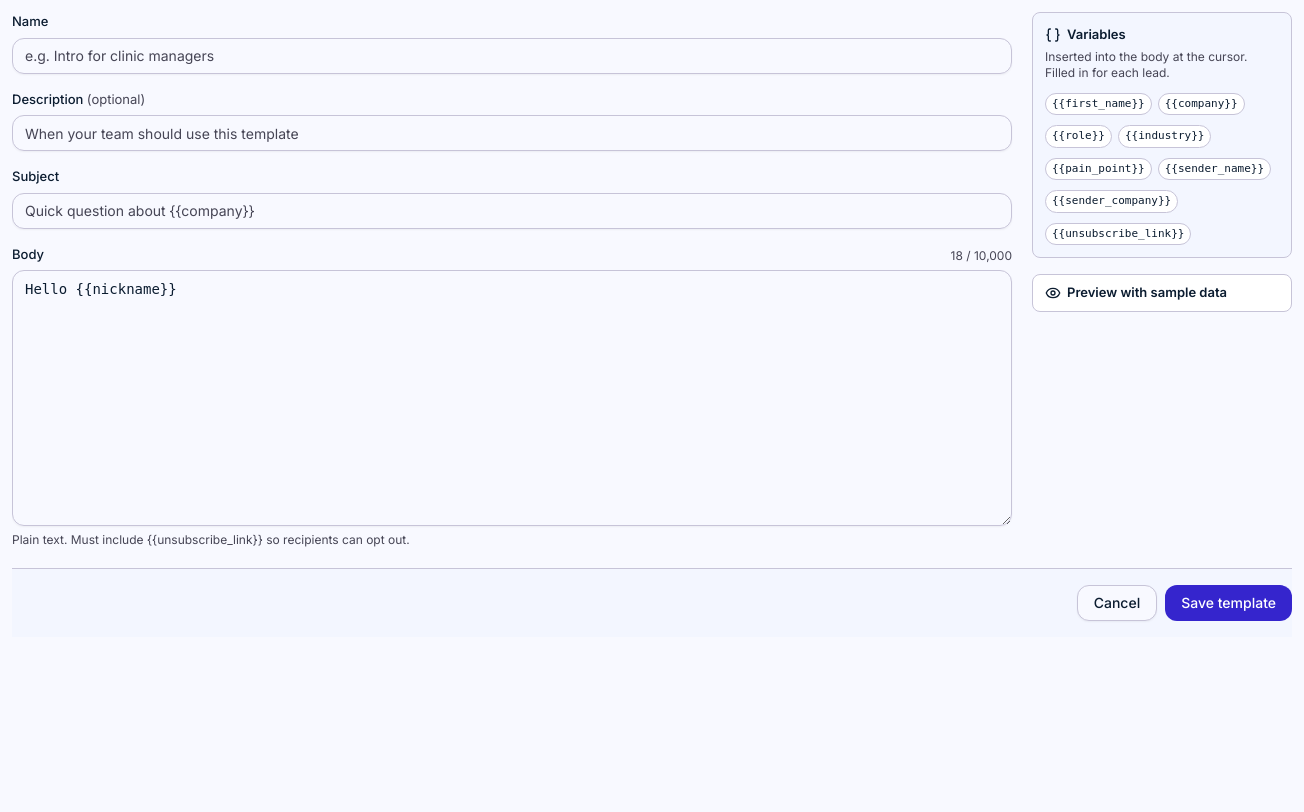
Test: TemplateForm › blocks submit and explains what's wrong
Click the button "Save template": [1229, 603] box [1165,585,1292,621]
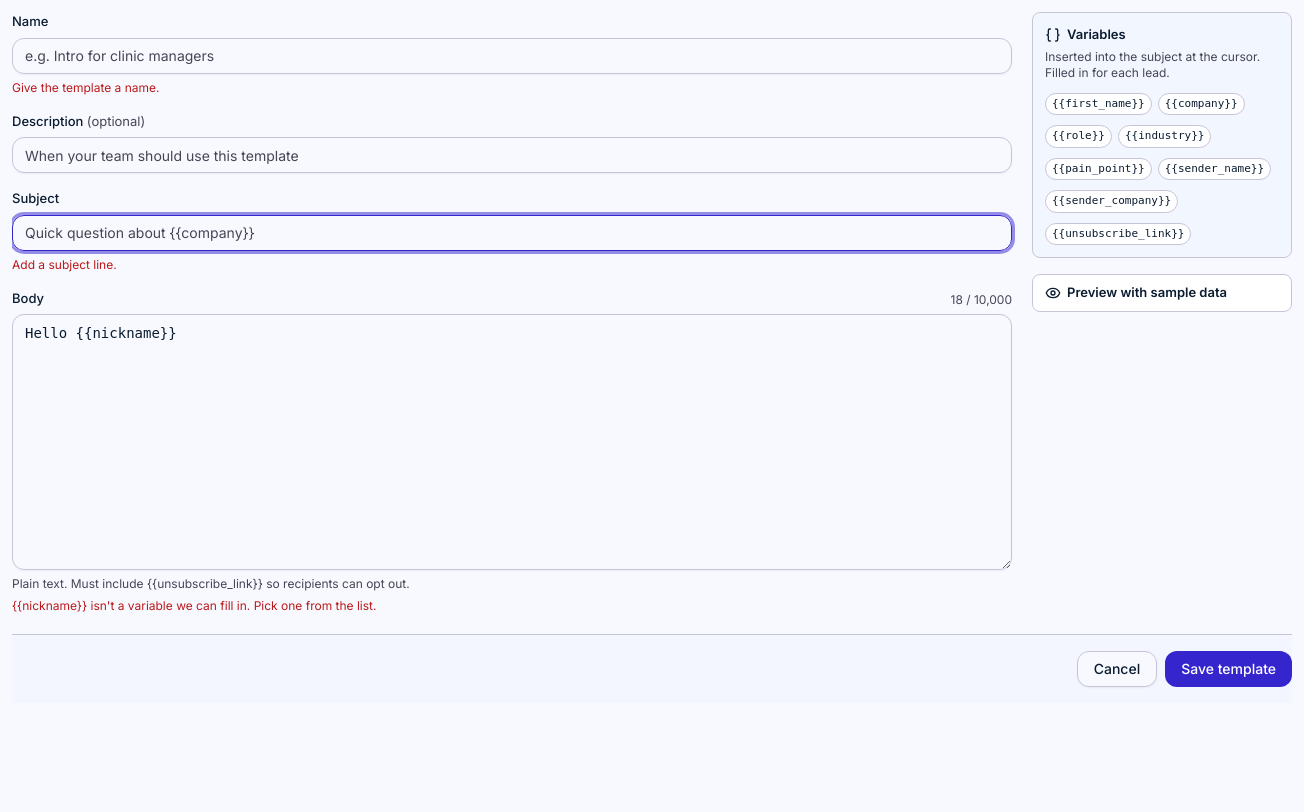
Check: the text "Give the template a name." is shown, box [12,80,160,94]
Check: the text "Add a subject line." is shown, box [12,256,117,272]
Check: the text "{{nickname}} isn't a variable" is shown, box [12,598,376,613]
